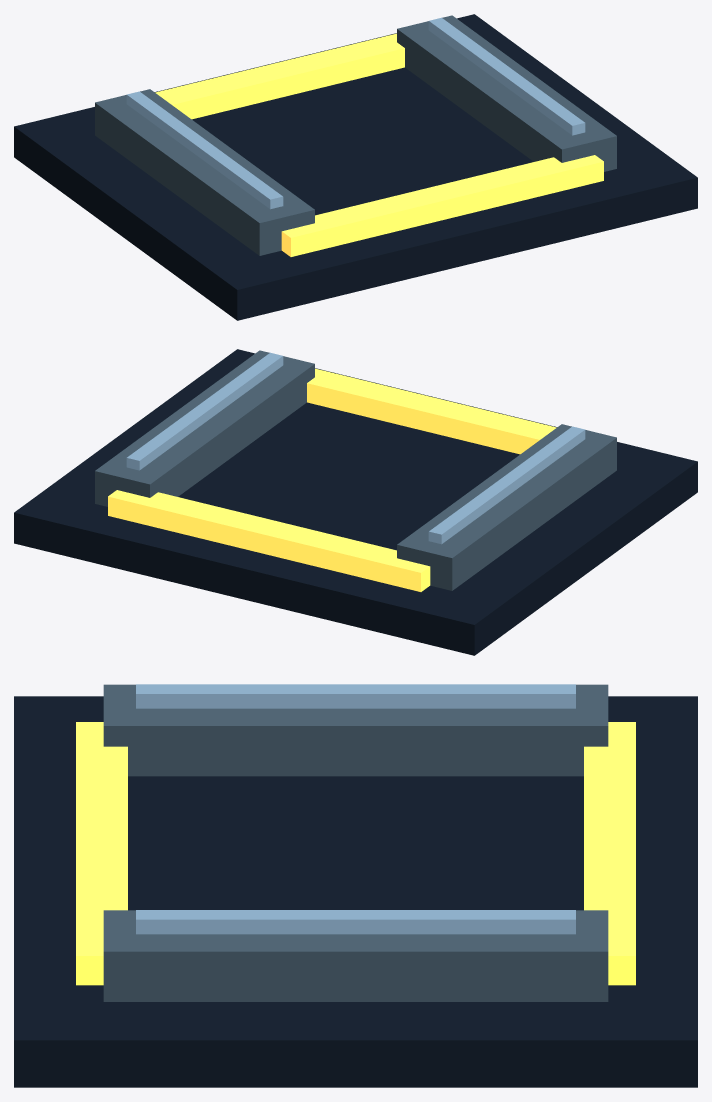
The model's file is device-magnetic.glb.
3 renders of one model, top to bottom at view 1: azimuth 30°, elevation 25°; view 2: azimuth 150°, elevation 25°; view 3: azimuth 270°, elevation 25°, orthographic. The views are drawn at different scales.
Visible parts, largest first — view 1: magnet-platform, magnet-pole (×2), magnet-coil (×2), state-light (×2); view 2: magnet-platform, magnet-pole (×2), magnet-coil (×2), state-light (×2); view 3: magnet-platform, magnet-pole (×2), magnet-coil (×2), state-light (×2).
Part boxes in pixels (left/top/right/bottom): magnet-platform: left=14, top=14, right=697, bottom=320; magnet-pole (×2): left=95, top=15, right=616, bottom=255; magnet-coil (×2): left=155, top=33, right=603, bottom=256; state-light (×2): left=126, top=17, right=585, bottom=209; magnet-platform: left=14, top=349, right=697, bottom=655; magnet-pole (×2): left=95, top=350, right=616, bottom=590; magnet-coil (×2): left=108, top=368, right=556, bottom=591; state-light (×2): left=126, top=352, right=585, bottom=544; magnet-platform: left=14, top=696, right=697, bottom=1087; magnet-pole (×2): left=103, top=684, right=608, bottom=1001; magnet-coil (×2): left=76, top=722, right=635, bottom=985; state-light (×2): left=136, top=684, right=575, bottom=934.
Size of the model in its own units: 2.5 by 0.385 by 2.1.
